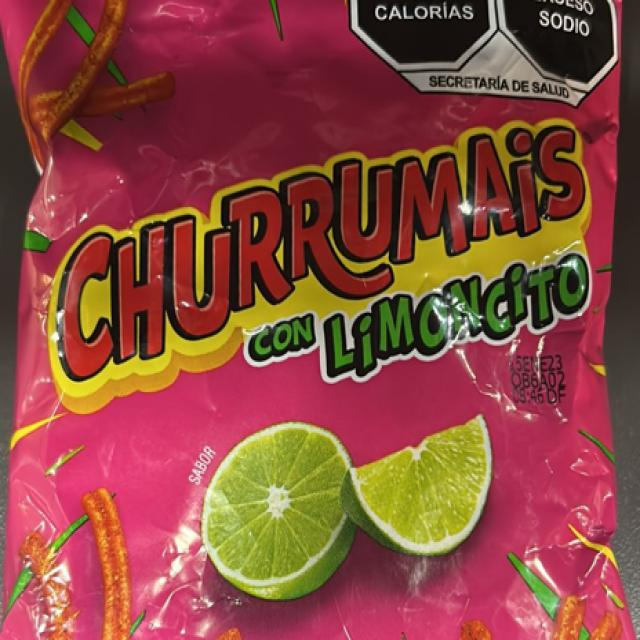churrumais: (36, 2, 606, 634)
